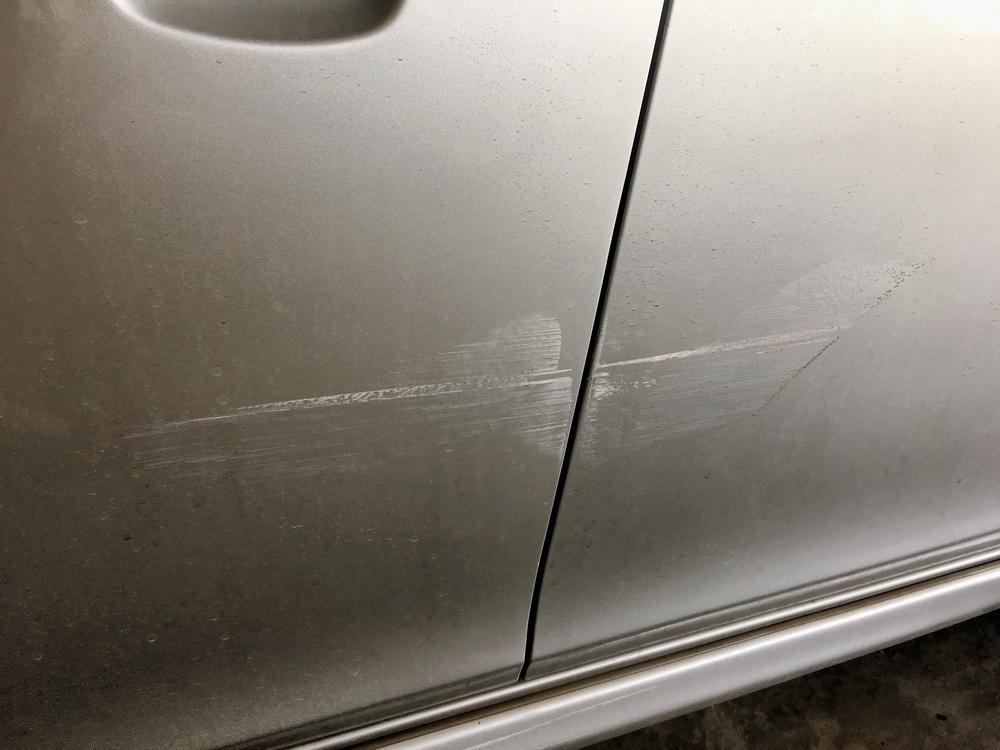scratch: (128, 307, 579, 481), (568, 321, 856, 461)
